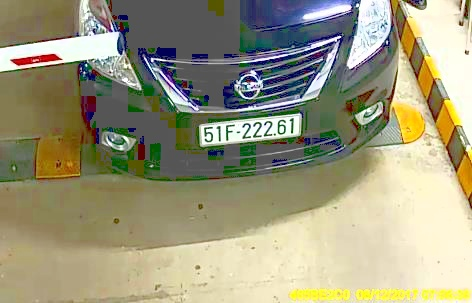plate: (193, 113, 309, 152)
